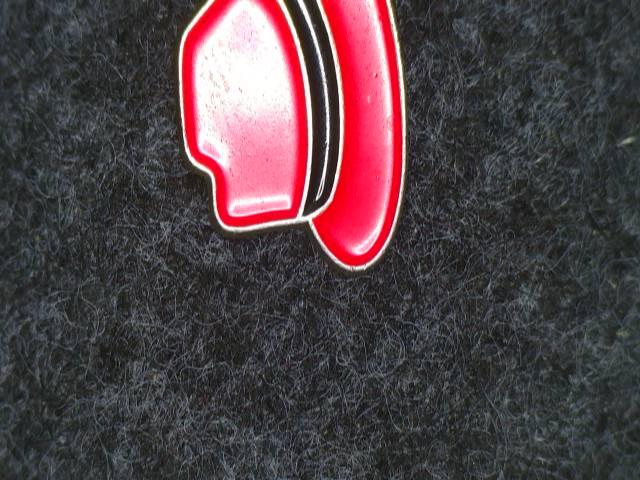Red-Hat: (148, 0, 431, 304)
